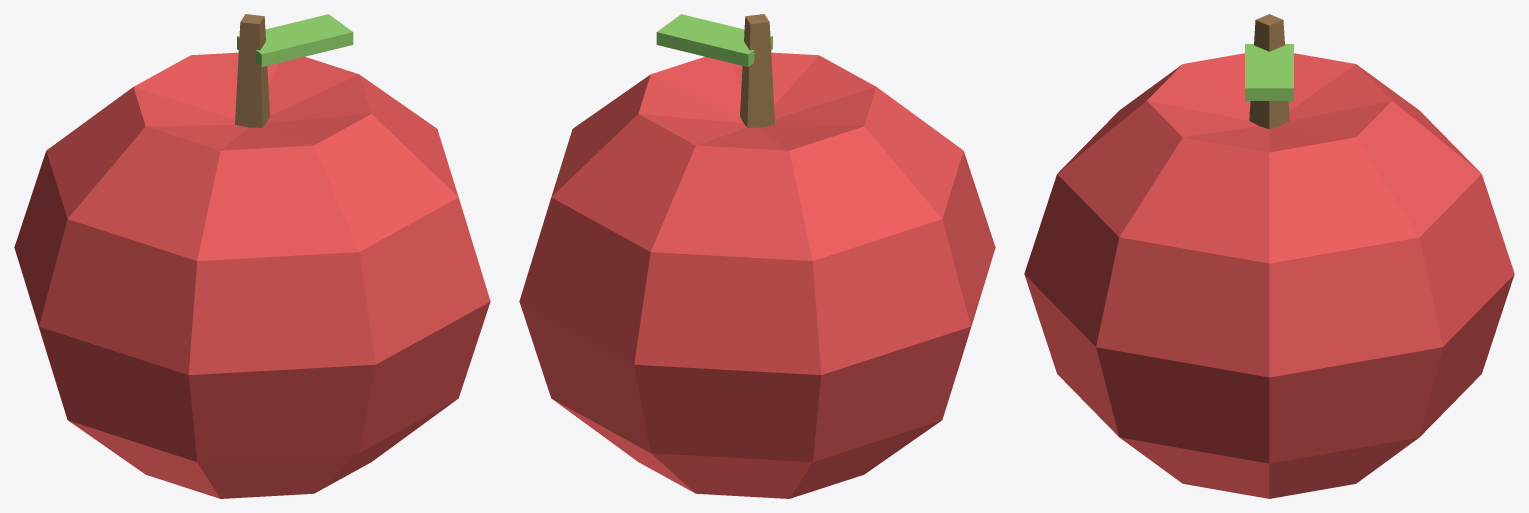
Rendered from Basura_Organico_Manzana.fbx.
3 views of the same model, side by side, from view 1: azimuth 30°, elevation 25°; view 2: azimuth 150°, elevation 25°; view 3: azimuth 270°, elevation 25° (orthographic).
Parts seen in each view (by area): view 1: Basura_Organico_Manzana; view 2: Basura_Organico_Manzana; view 3: Basura_Organico_Manzana.
Boxes of the visible parts, x1,y1,x2,y2 form: Basura_Organico_Manzana: [14, 14, 490, 498]; Basura_Organico_Manzana: [519, 14, 995, 498]; Basura_Organico_Manzana: [1024, 14, 1514, 498].
Bounding box in the file's own units: 0.7 × 0.6728 × 0.7.
1 material, 1 textured.
